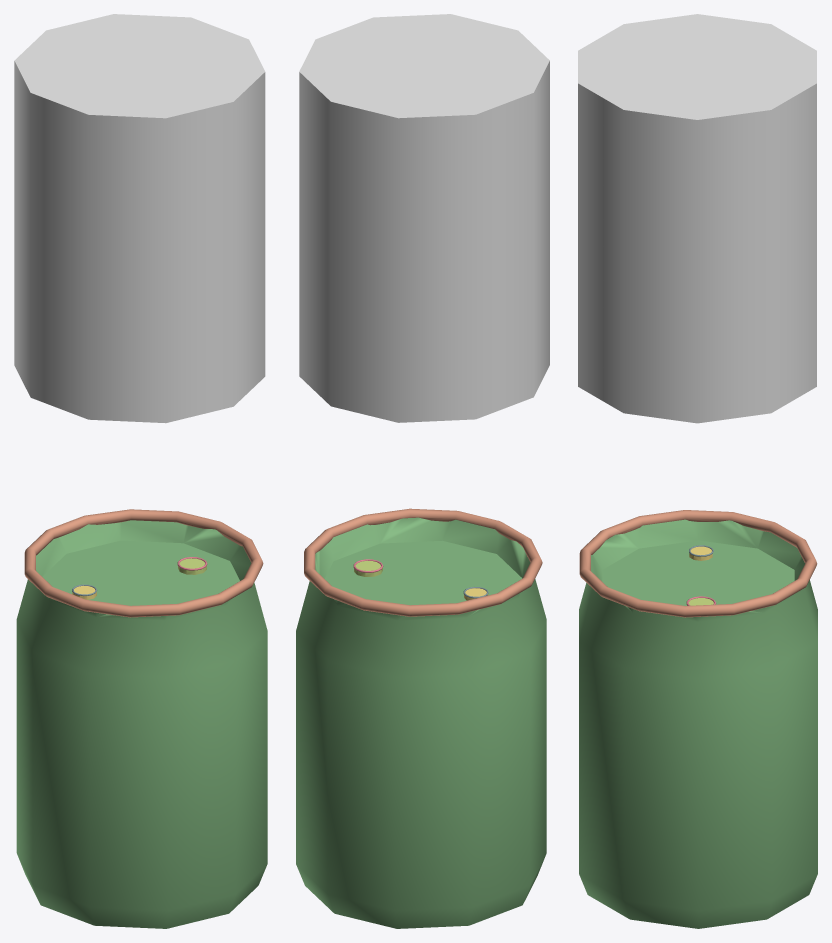
File: Weed-Ex_Barrel (1).fbx
3 views of the same model, side by side, from view 1: azimuth 30°, elevation 25°; view 2: azimuth 150°, elevation 25°; view 3: azimuth 270°, elevation 25° (orthographic).
Parts seen in each view (by area): view 1: Cylinder001, ring; view 2: Cylinder001, ring; view 3: Cylinder001, ring.
Part boxes in pixels (<box>): Cylinder001: <box>16,509,267,928</box>; ring: <box>14,14,265,423</box>; Cylinder001: <box>296,508,546,928</box>; ring: <box>299,14,549,422</box>; Cylinder001: <box>579,510,817,928</box>; ring: <box>578,14,816,423</box>.
Size of the model in its own units: 30.37 by 107 by 28.65.
